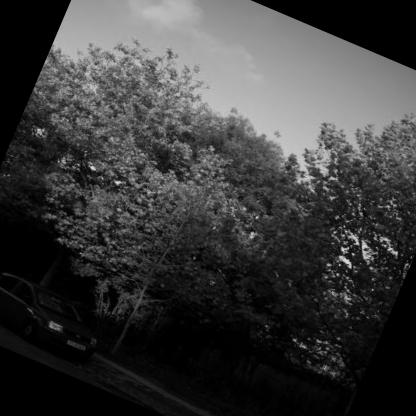car: (1, 259, 119, 372)
